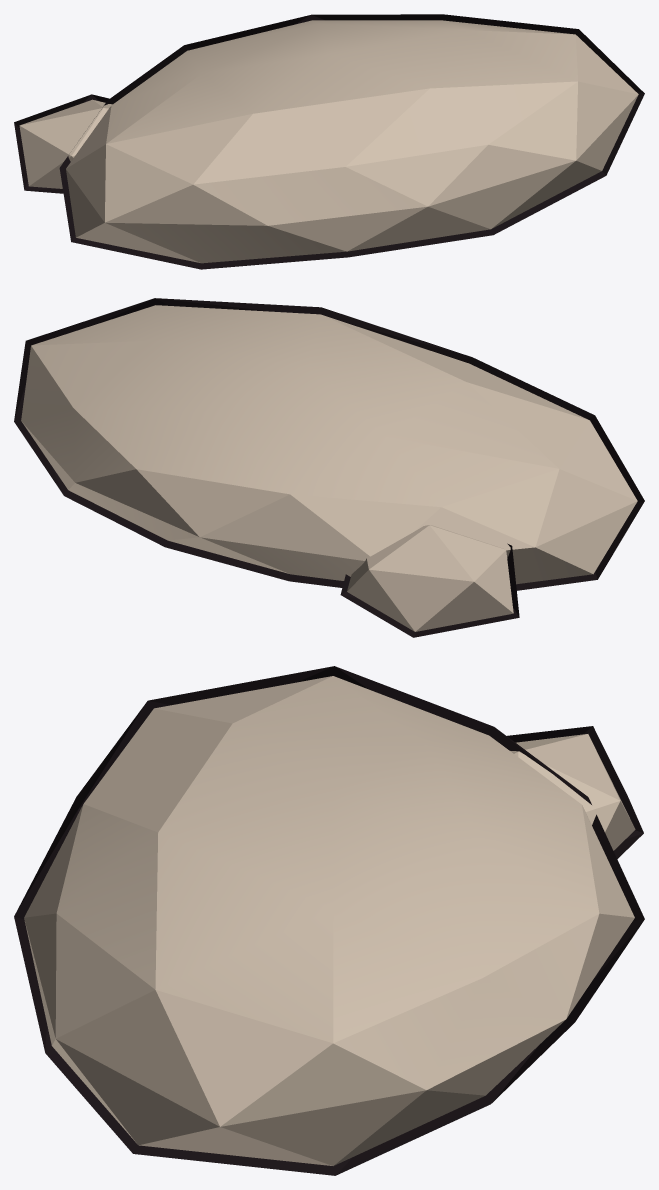
Rendered from SM_Rock_02.fbx.
3 renders of one model, top to bottom at view 1: azimuth 30°, elevation 25°; view 2: azimuth 150°, elevation 25°; view 3: azimuth 270°, elevation 25°, orthographic. The views are drawn at different scales.
Visible parts, largest first — view 1: SM_Rock_02; view 2: SM_Rock_02; view 3: SM_Rock_02.
Part boxes in pixels (bbox=[...]): SM_Rock_02: bbox=[14, 14, 644, 269]; SM_Rock_02: bbox=[14, 298, 644, 637]; SM_Rock_02: bbox=[14, 666, 644, 1175].
Size of the model in its own units: 2.92 by 0.723 by 1.88.
